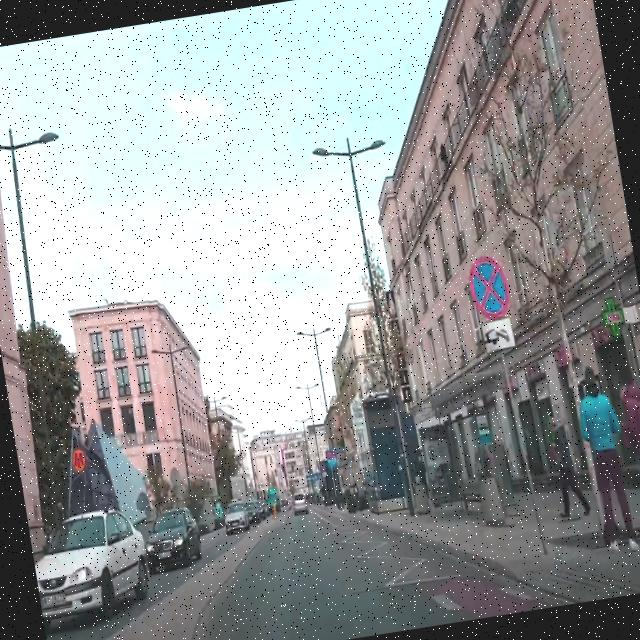Zakaz zatrzymywania sie: (466, 254, 512, 319)
